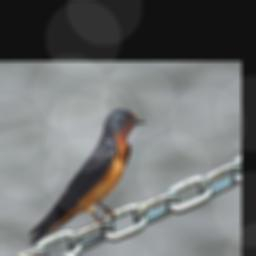Swallow: (29, 108, 148, 247)
